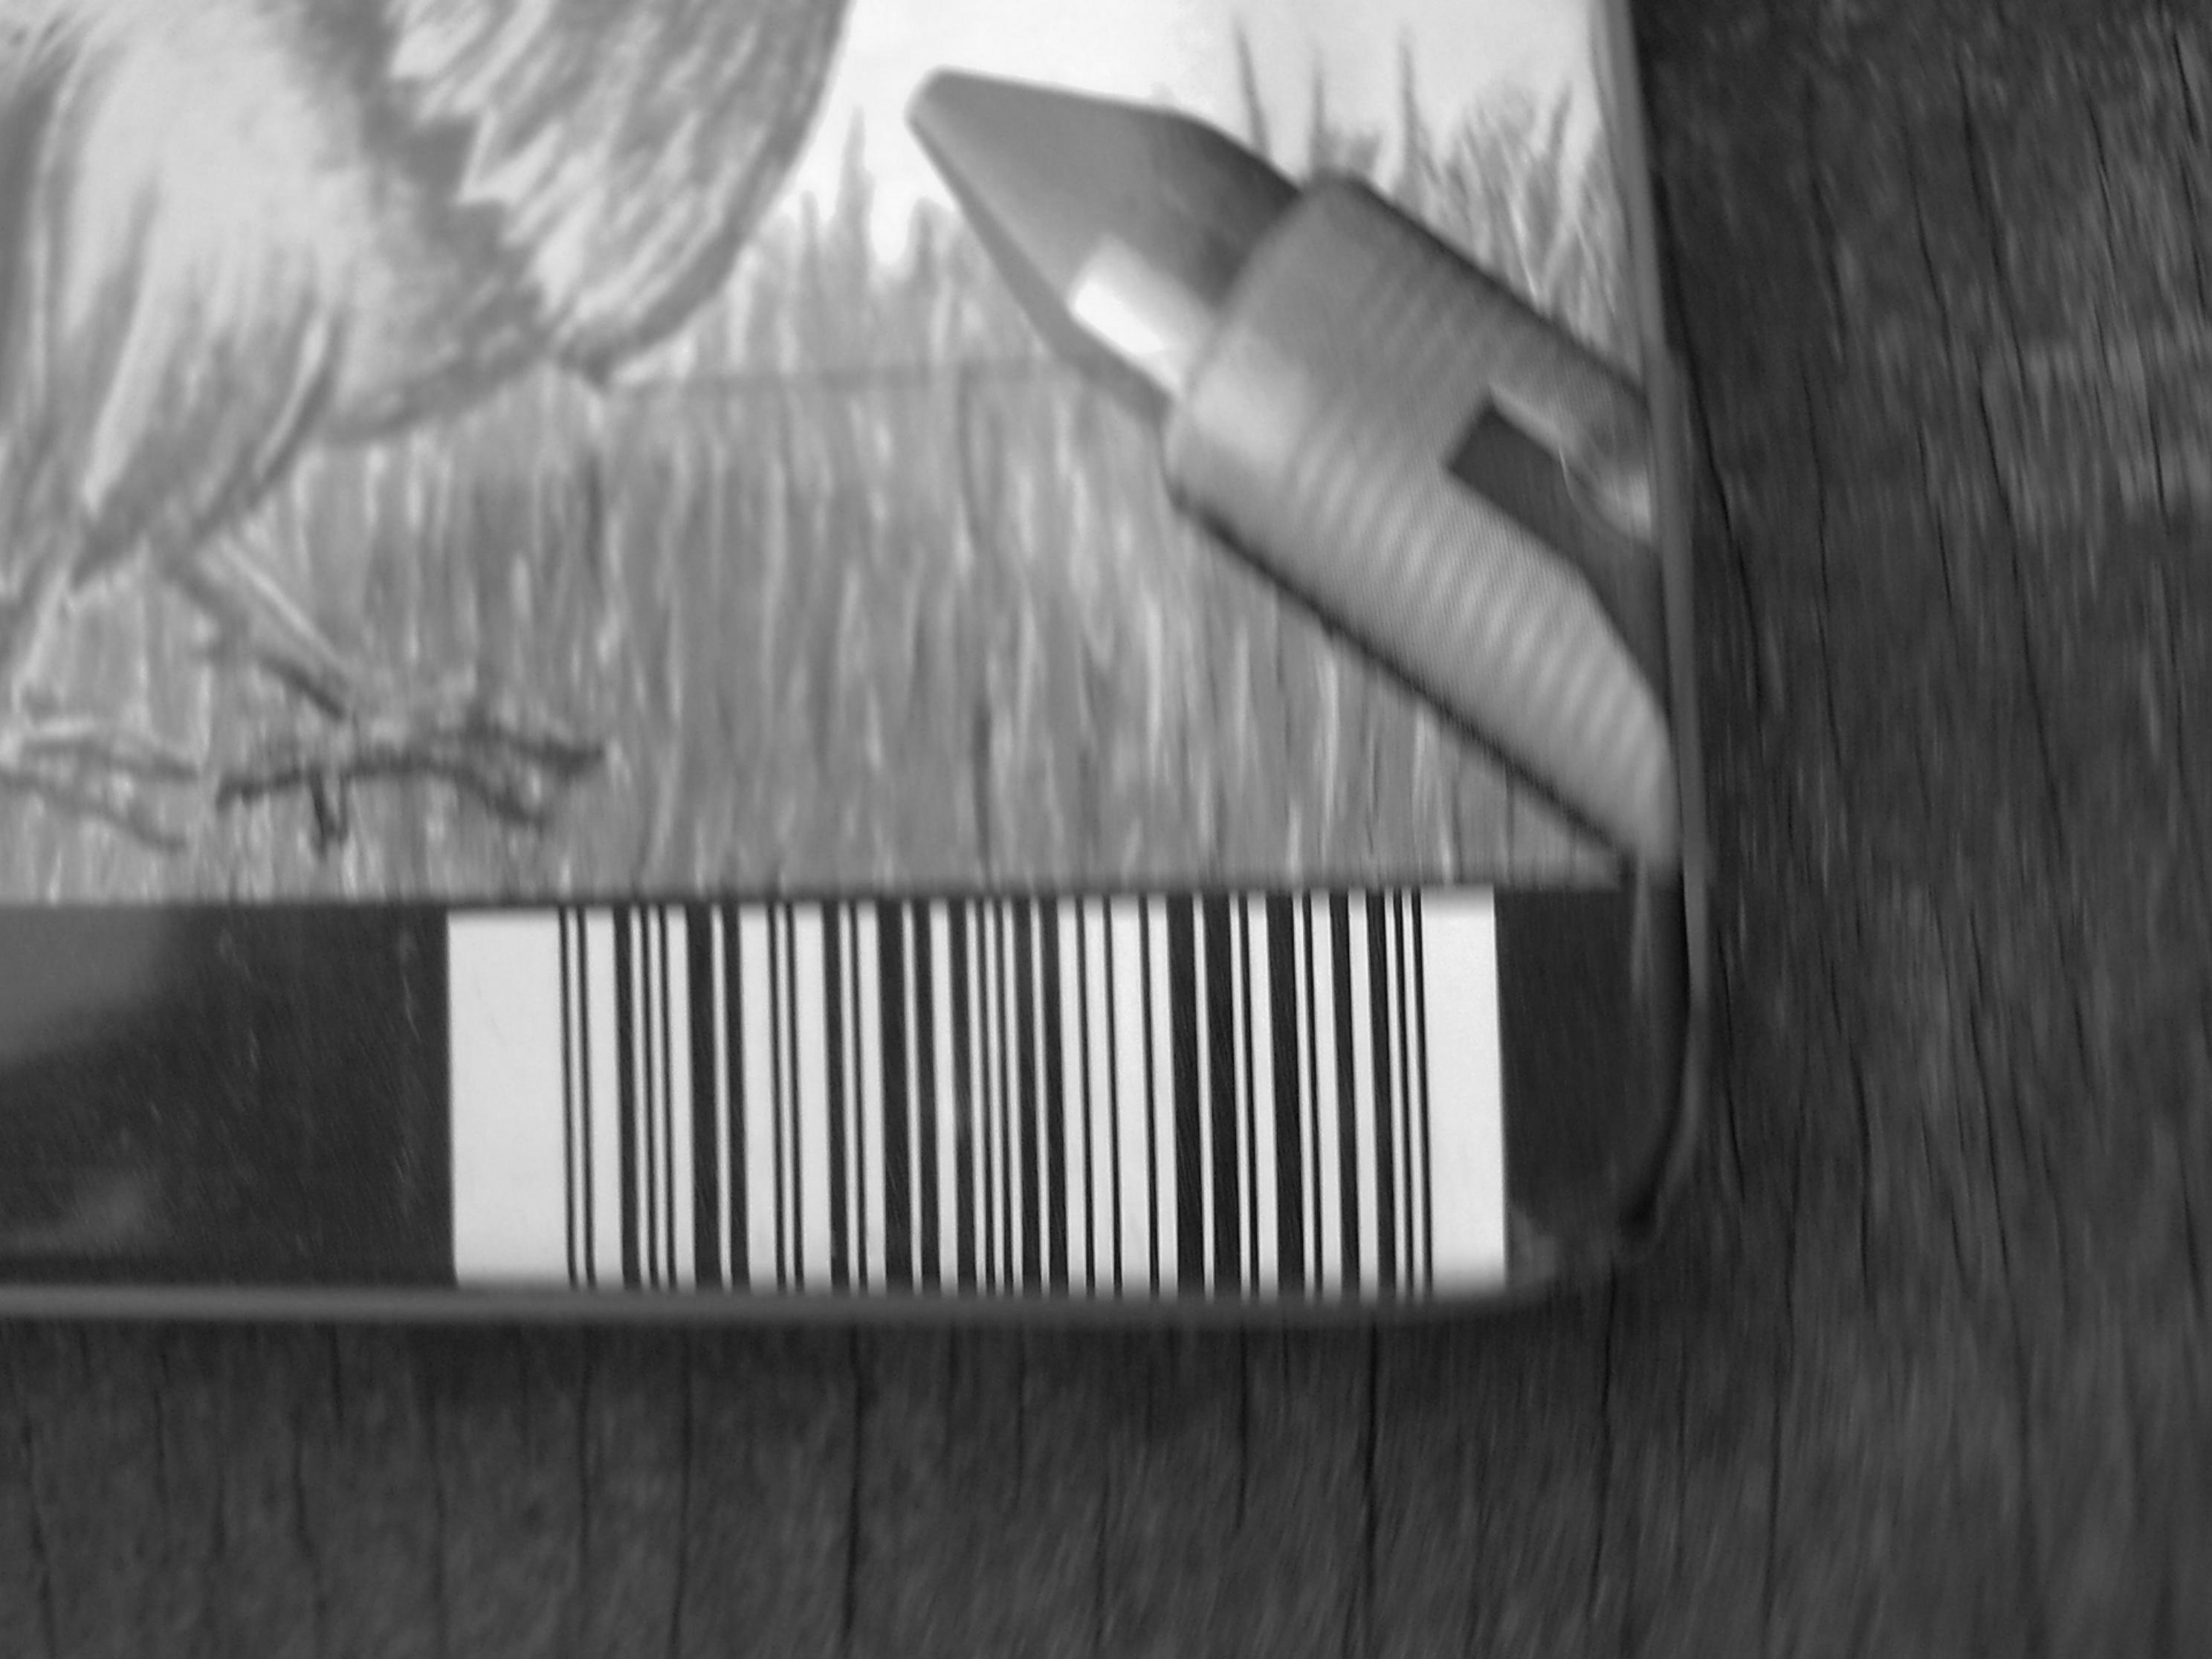Barcode: (449, 890, 1486, 1303)
